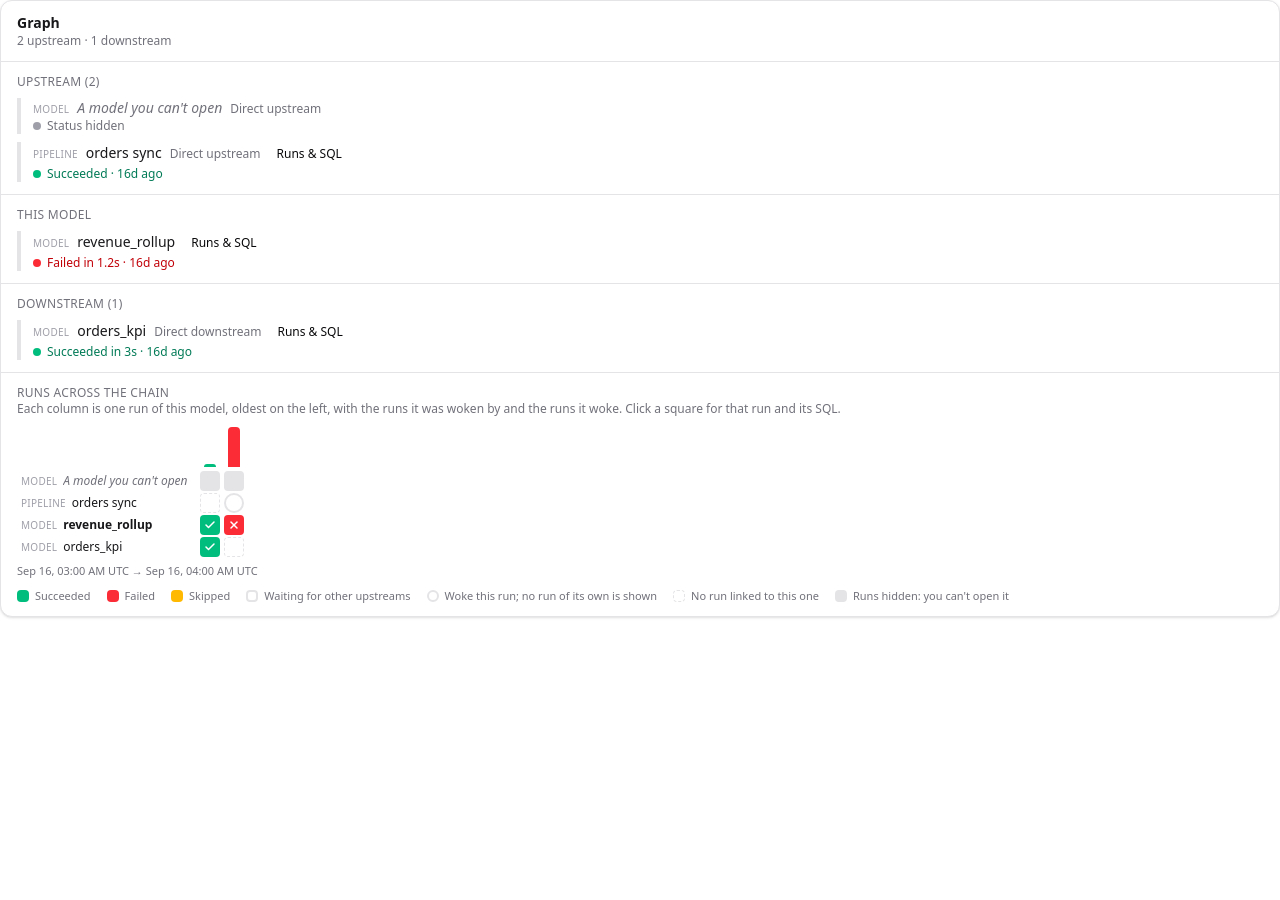
it: ModelLineageGraph › the run panel and the run grid › opens a pipeline's last execution, with no SQL to ask for
Click the button with aria-label "Runs and SQL: orders sync". click: x=309, y=154
box: x1=268 y1=142 x2=350 y2=166
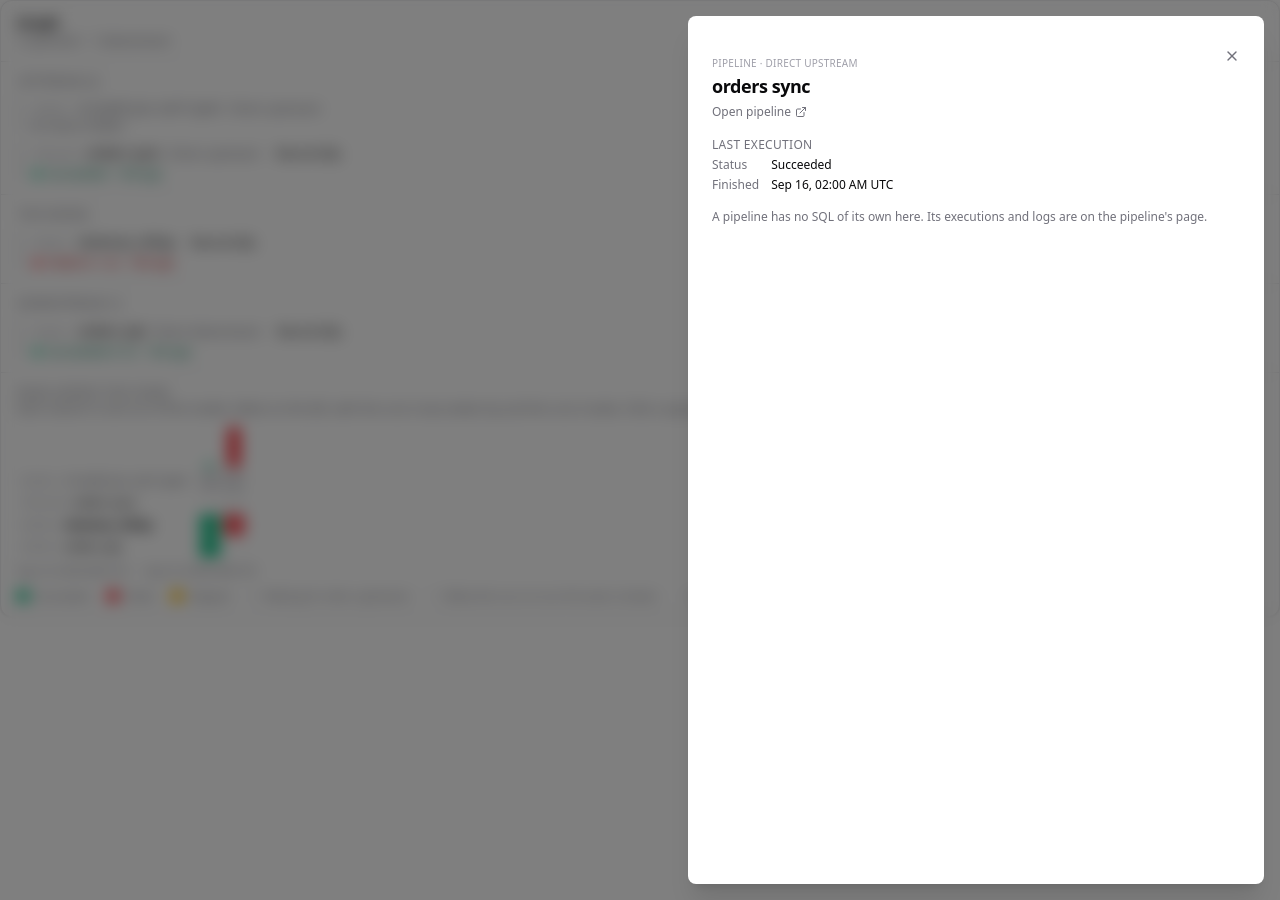
Expected: the heading "Last execution" is shown, x1=712 y1=136 x2=812 y2=153
